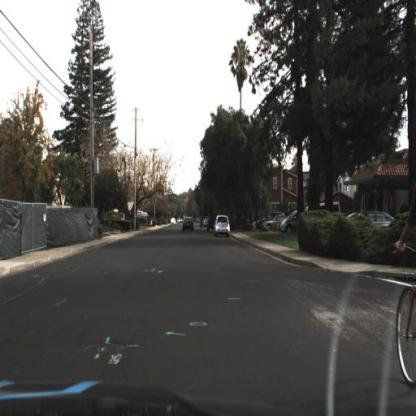biker: (392, 159, 416, 396)
car: (279, 203, 314, 241), (262, 212, 287, 237), (212, 215, 233, 243), (277, 210, 301, 233), (214, 212, 232, 239), (180, 214, 197, 235), (393, 212, 411, 229), (184, 216, 196, 232)
